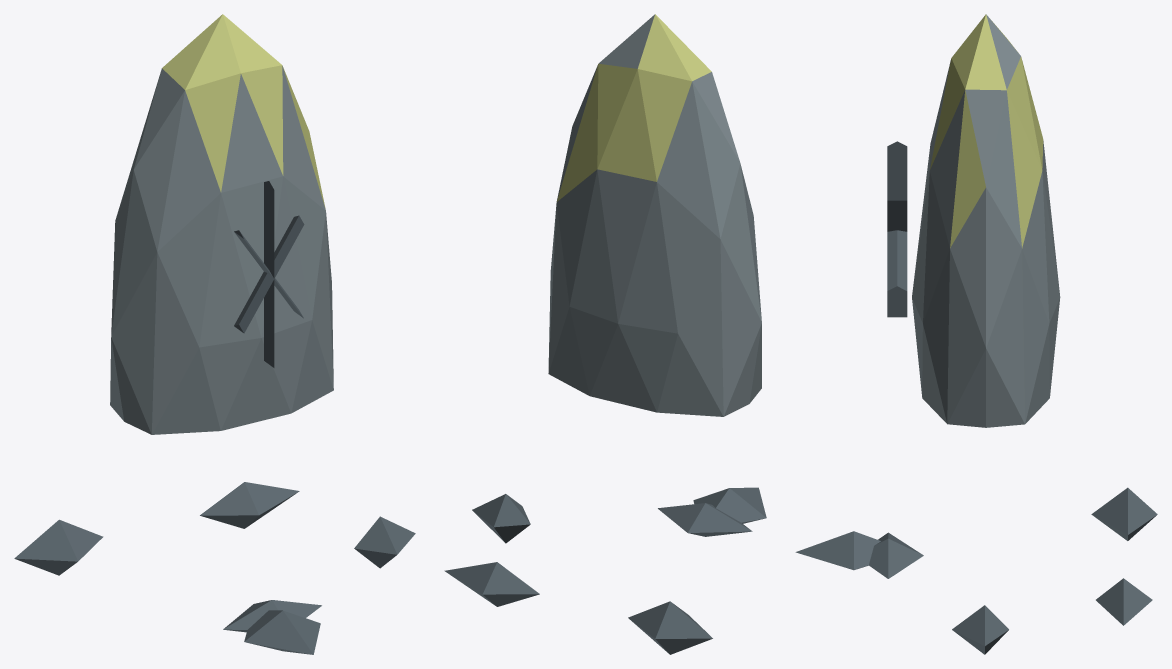
Rendered from rune_marker.glb.
3 views of the same model, side by side, from view 1: azimuth 30°, elevation 25°; view 2: azimuth 150°, elevation 25°; view 3: azimuth 270°, elevation 25° (orthographic). The views are drawn at different scales.
Parts seen in each view (by area): view 1: rune_marker.001; view 2: rune_marker.001; view 3: rune_marker.001.
Boxes of the visible parts, x1,y1,x2,y2 form: rune_marker.001: (14,14,415,654); rune_marker.001: (444,14,766,654); rune_marker.001: (795,14,1157,654).
Size of the model in its own units: 0.7608 by 1.32 by 0.7623.
